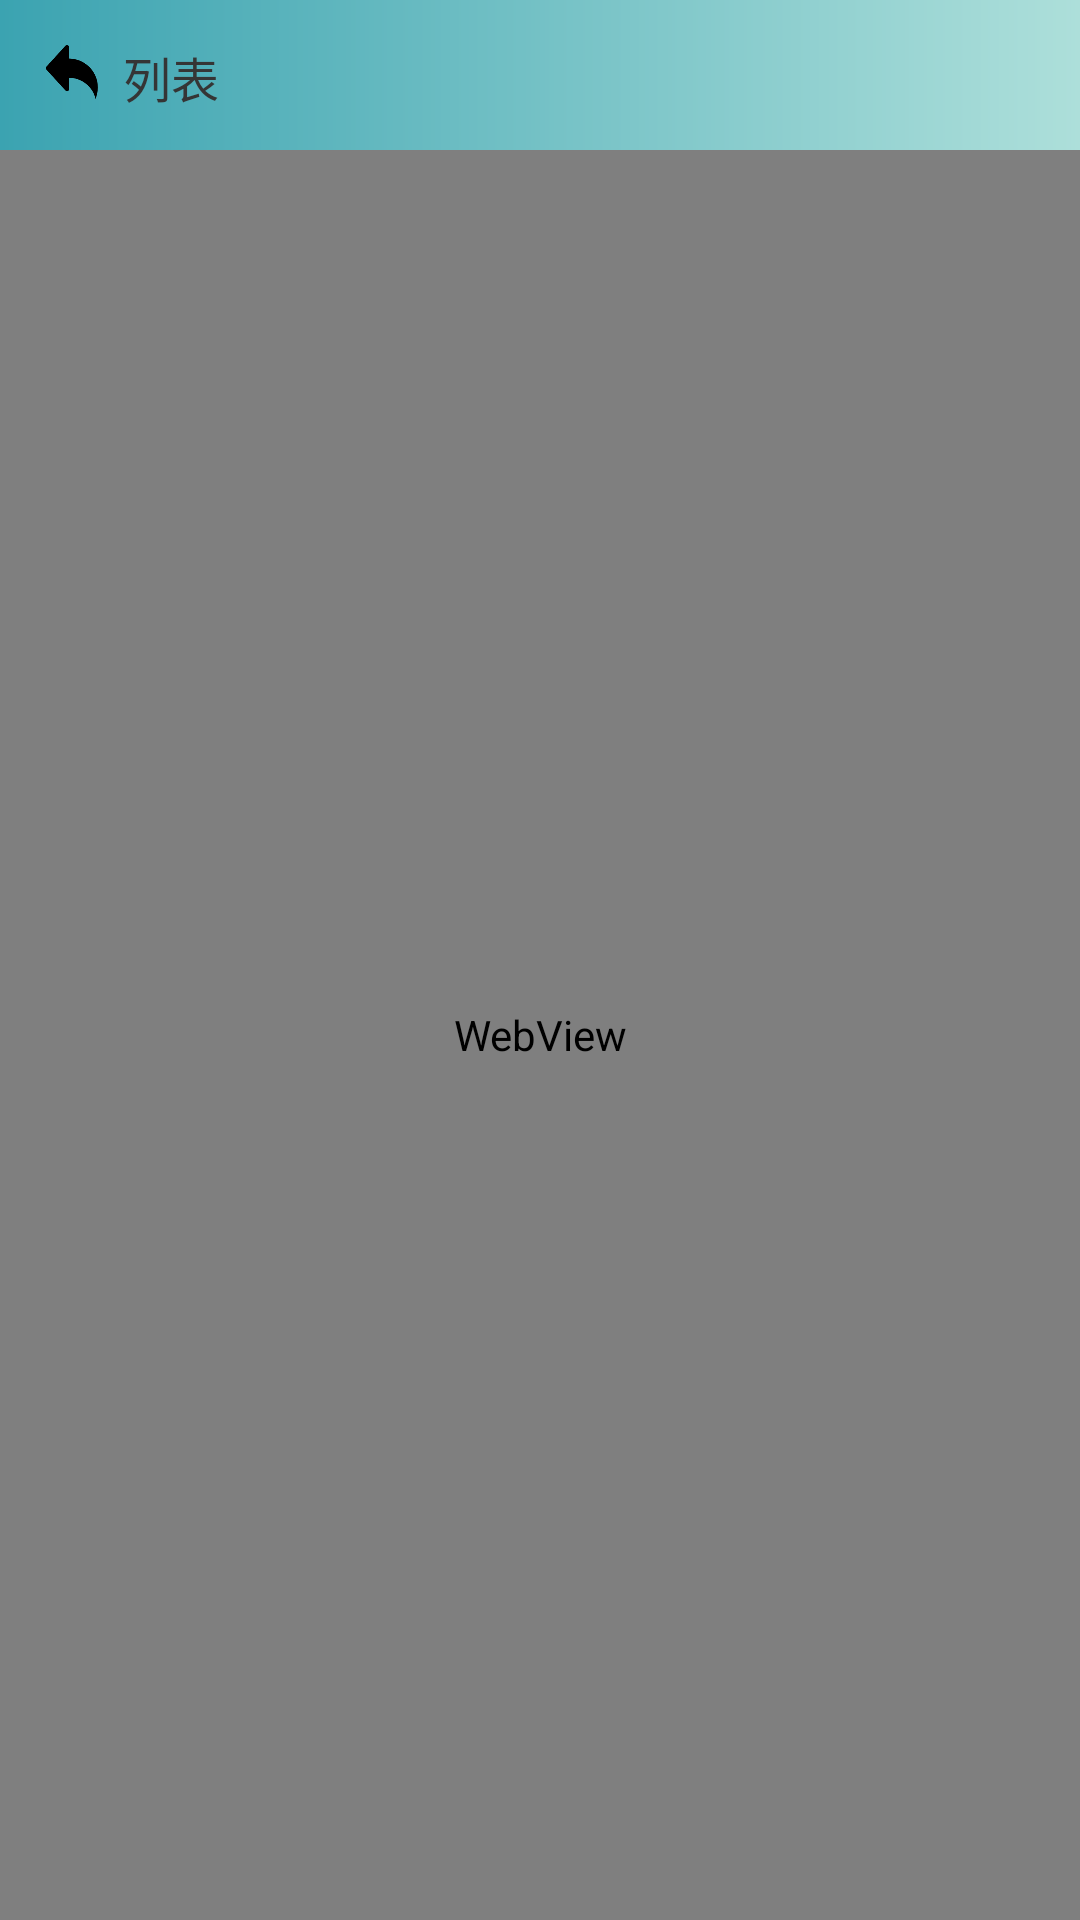

Locate icon controls on the screen. Image size 1080px×1920px, boxes as bbox(x1, y1, x2, y2).
back: bbox(46, 45, 98, 99)
